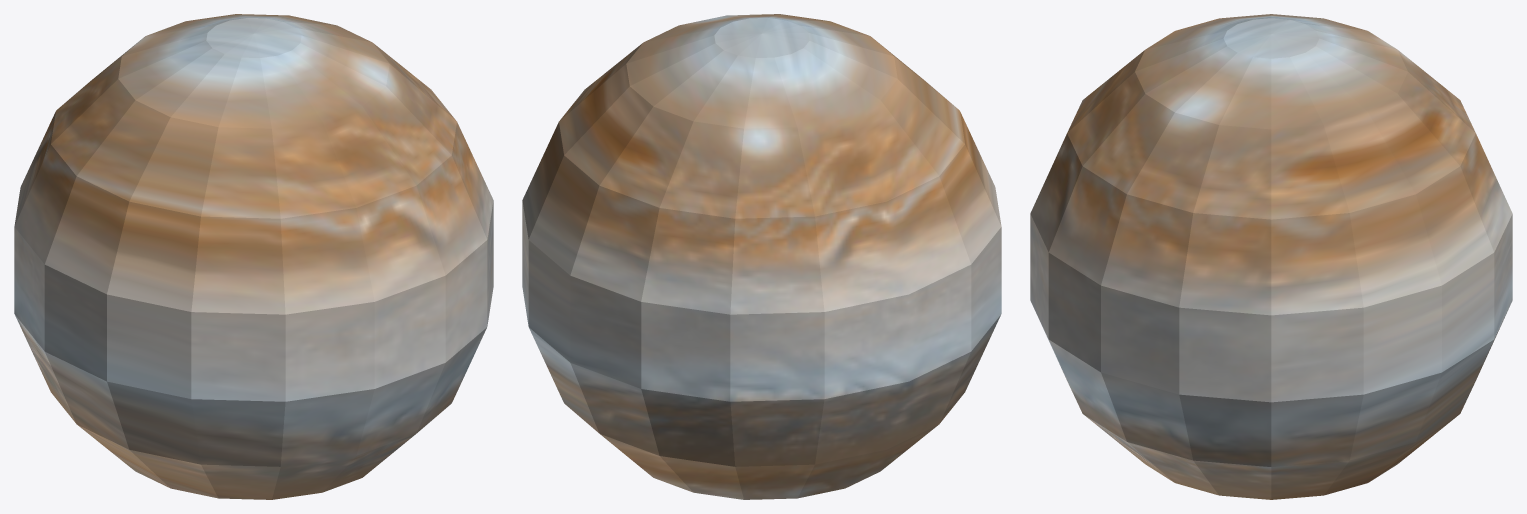
Rendered from Jupiter.glb.
3 views of the same model, side by side, from view 1: azimuth 30°, elevation 25°; view 2: azimuth 150°, elevation 25°; view 3: azimuth 270°, elevation 25° (orthographic).
Visible parts, largest first — view 1: Sphere; view 2: Sphere; view 3: Sphere.
Part boxes in pixels (<box>): Sphere: <box>14,14,493,499</box>; Sphere: <box>522,14,1001,499</box>; Sphere: <box>1030,14,1512,499</box>.
Size of the model in its own units: 1.96 by 2 by 1.96.
Materials: 1 (1 with a texture image).
